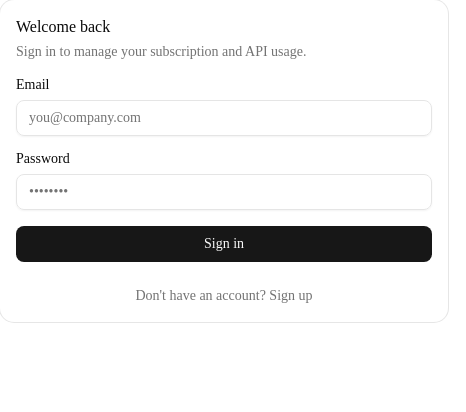
Test: AuthForm › shows config error when Supabase is not configured
Type "a@b.com" into the field labelled "Email" at (224, 118), box [16,100,432,136]
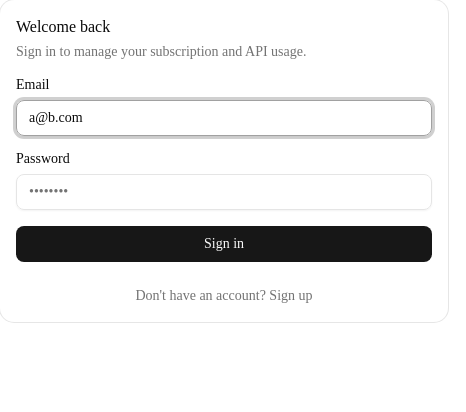
Type "password1" into the password field labelled "Password" at (224, 192), box [16,174,432,210]
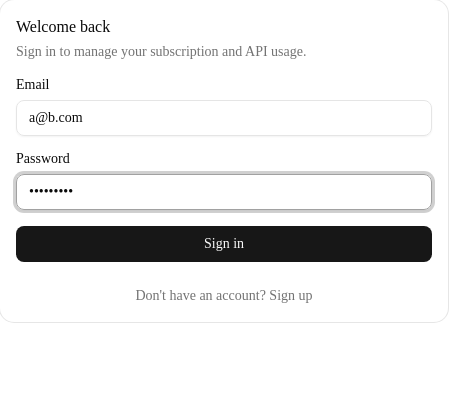
Click the button "Sign in" at (224, 244), box [16,226,432,262]
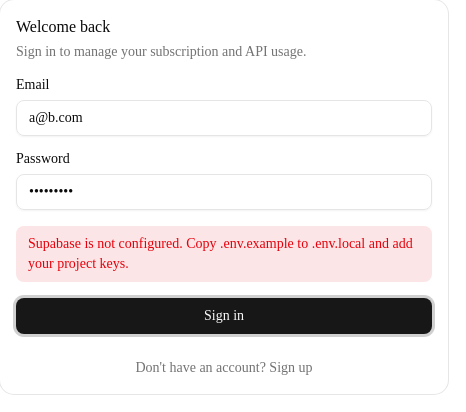
Now the text "Supabase is not configured" is shown, box [28,236,413,271]
